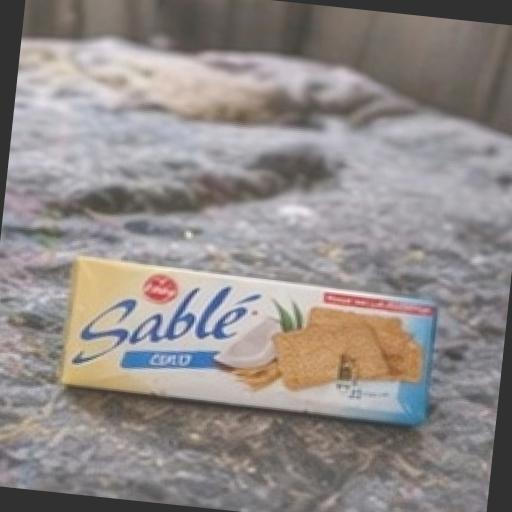sabl: (12, 157, 512, 498)
